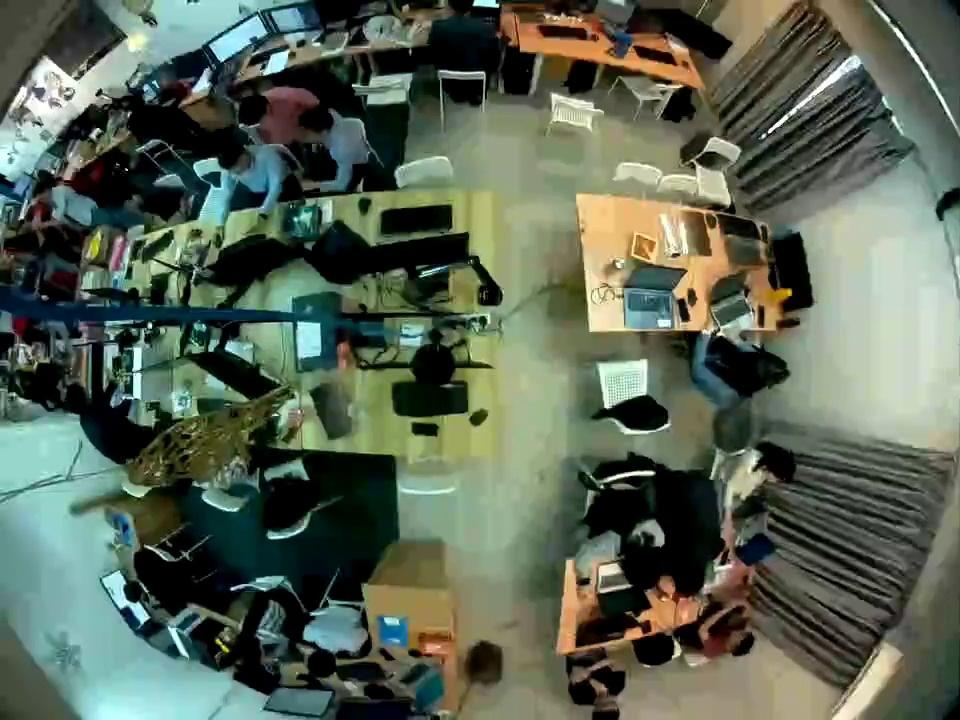people: (562, 488, 671, 606), (198, 142, 310, 243), (688, 319, 794, 417), (52, 387, 160, 482), (300, 102, 381, 200), (424, 0, 509, 93), (709, 438, 799, 523), (220, 598, 294, 690), (237, 87, 323, 164), (108, 553, 194, 624), (303, 609, 378, 689), (556, 644, 634, 718), (680, 600, 766, 661)
